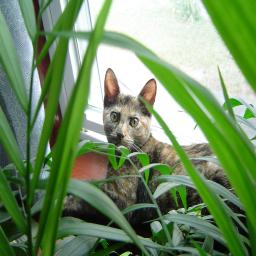catnose: (114, 130, 126, 142)
